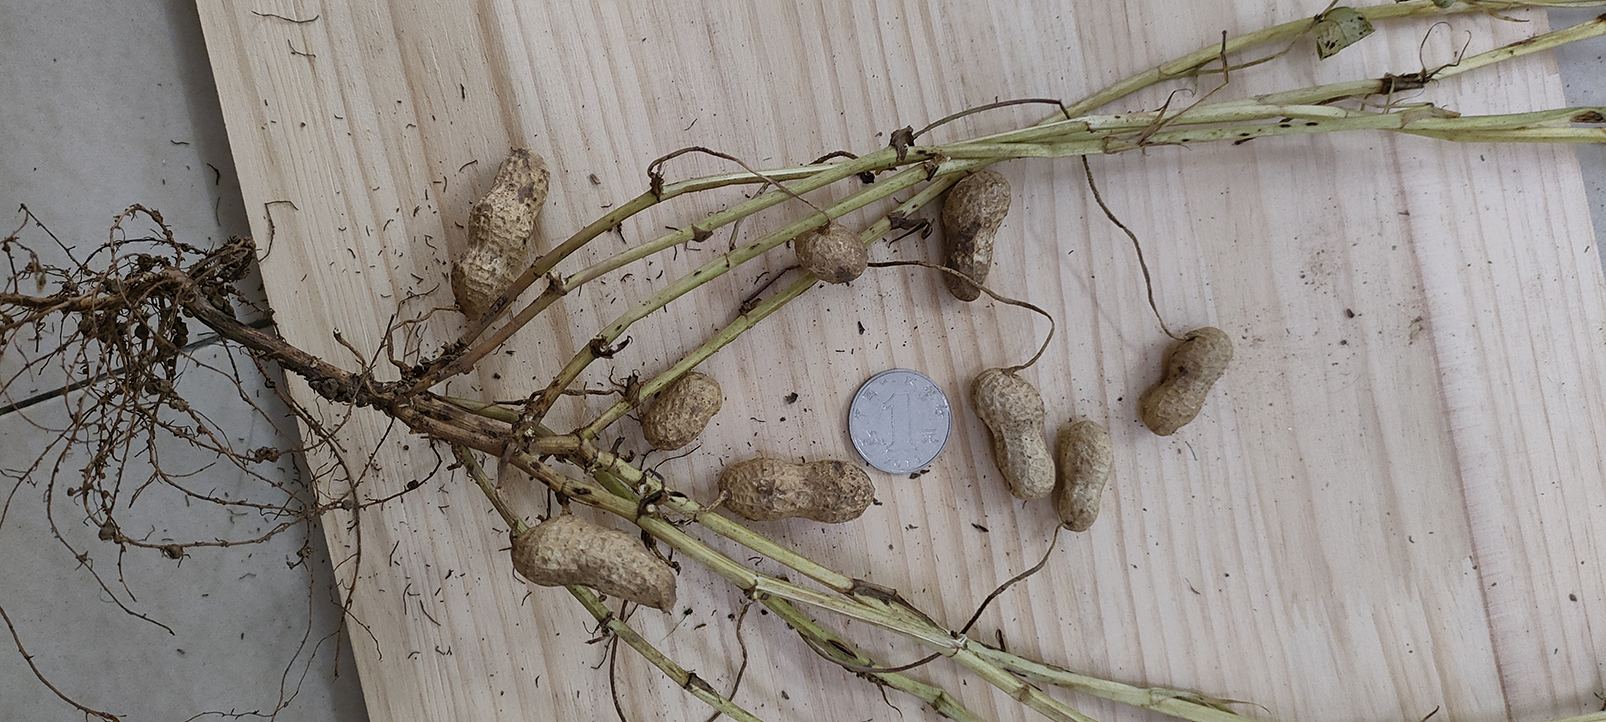h: (450, 148, 550, 318), (509, 512, 680, 611), (972, 368, 1057, 502), (1140, 327, 1234, 435), (724, 458, 878, 521), (1056, 421, 1112, 530), (644, 370, 724, 447), (795, 223, 869, 283)
l: (942, 167, 1013, 301)
